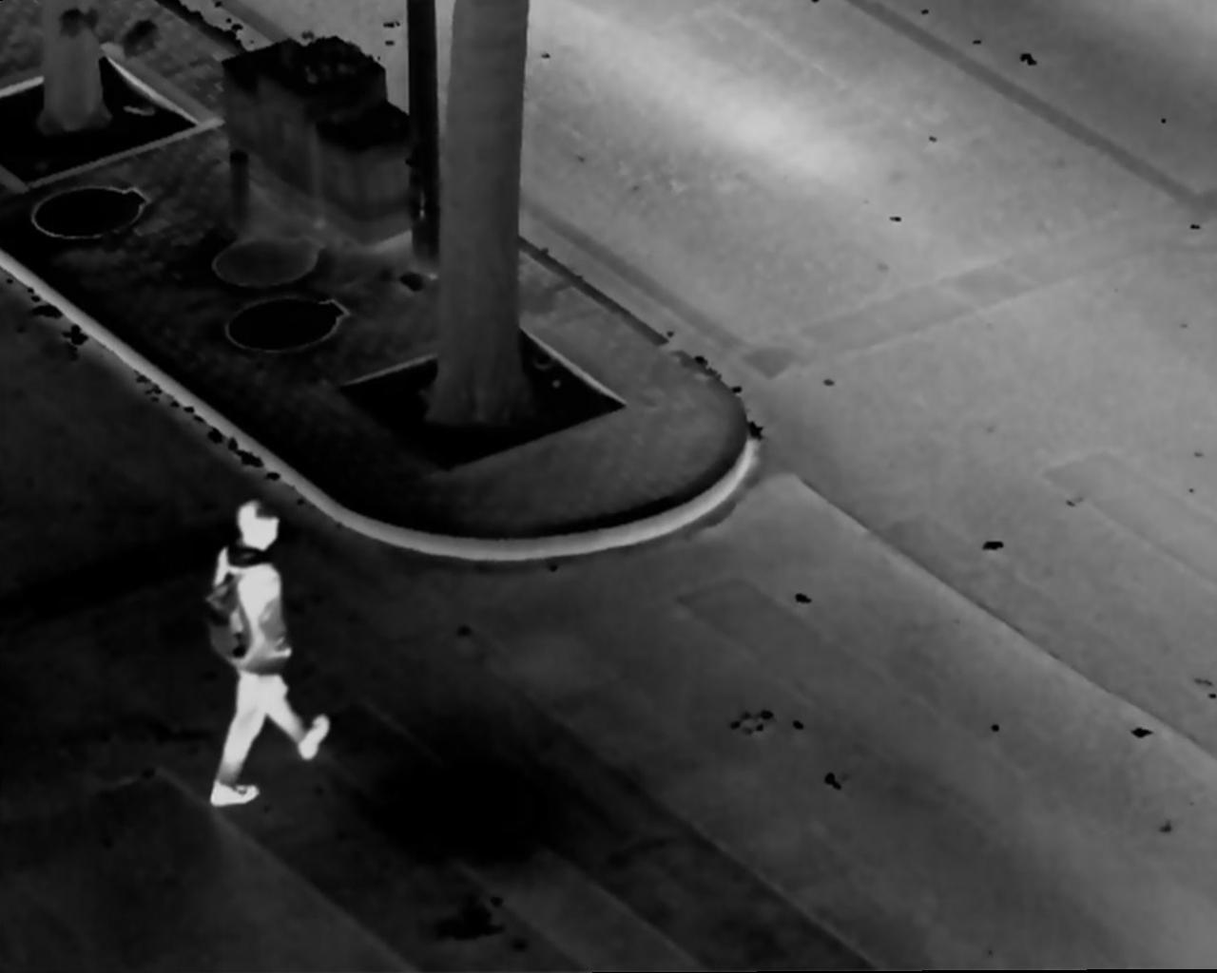person: (203, 502, 337, 820)
